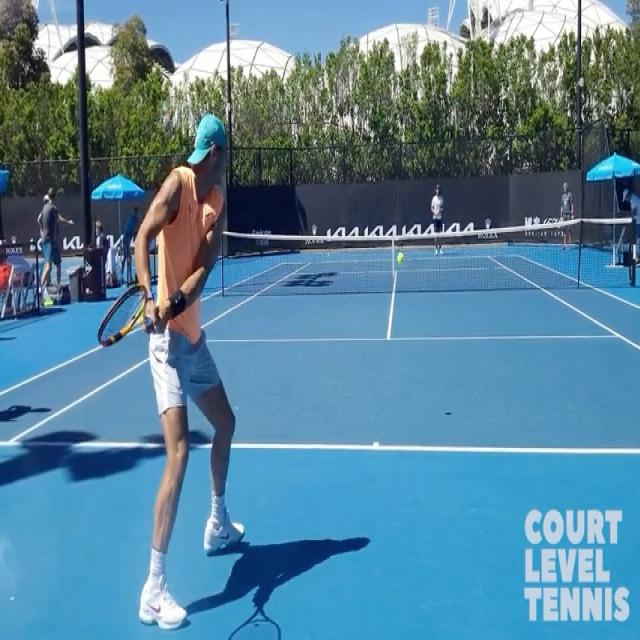backhand-ready: (98, 107, 242, 623)
